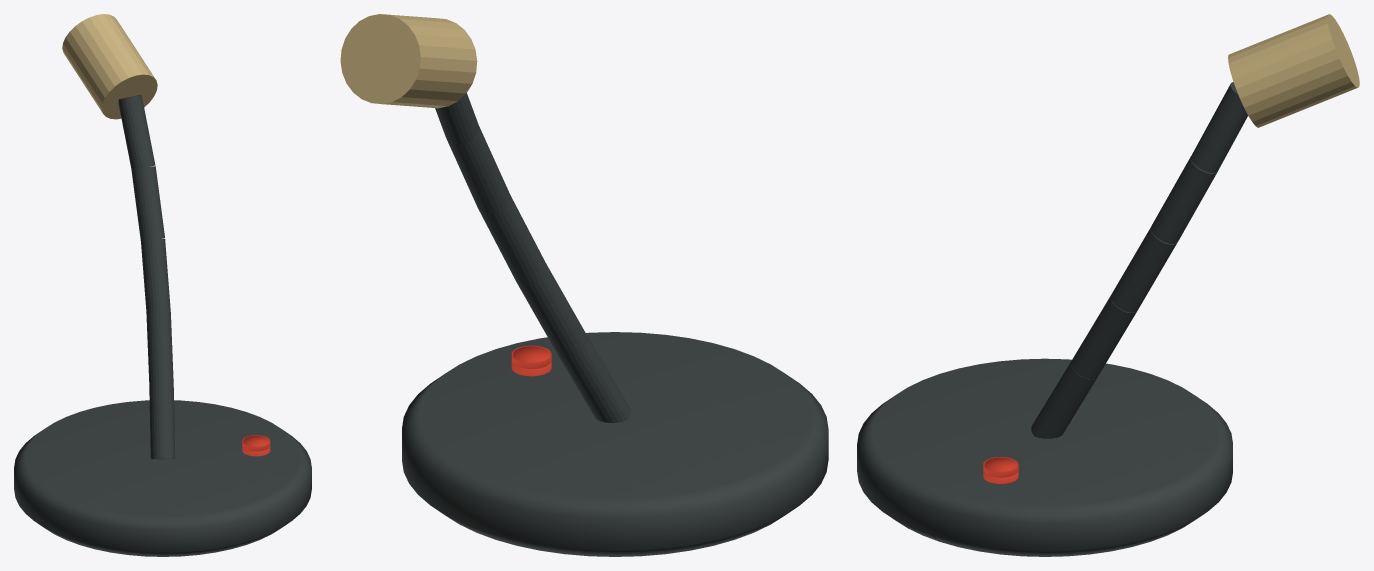
The model's file is city-courthouse-and-records-office-city-courthouse-and-53b03ef5.glb.
The picture shows the model from 3 angles, left to right: view 1: azimuth 30°, elevation 25°; view 2: azimuth 150°, elevation 25°; view 3: azimuth 270°, elevation 25°; orthographic projection. The views are drawn at different scales.
Visible parts, largest first — view 1: city-courthouse-and-records-office-desk-microphone; view 2: city-courthouse-and-records-office-desk-microphone; view 3: city-courthouse-and-records-office-desk-microphone.
Part boxes in pixels (x1,y1,x2,y2): city-courthouse-and-records-office-desk-microphone: (14, 14, 311, 556); city-courthouse-and-records-office-desk-microphone: (340, 14, 828, 556); city-courthouse-and-records-office-desk-microphone: (857, 14, 1359, 556).
Size of the model in its own units: 0.17 by 0.2464 by 0.2273.
